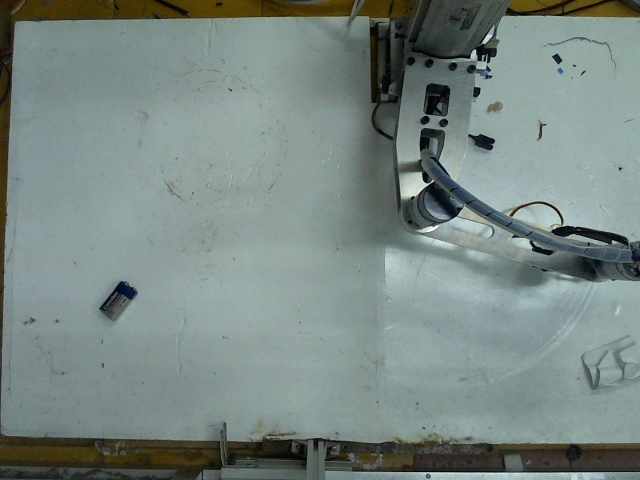battery: (96, 279, 138, 319)
